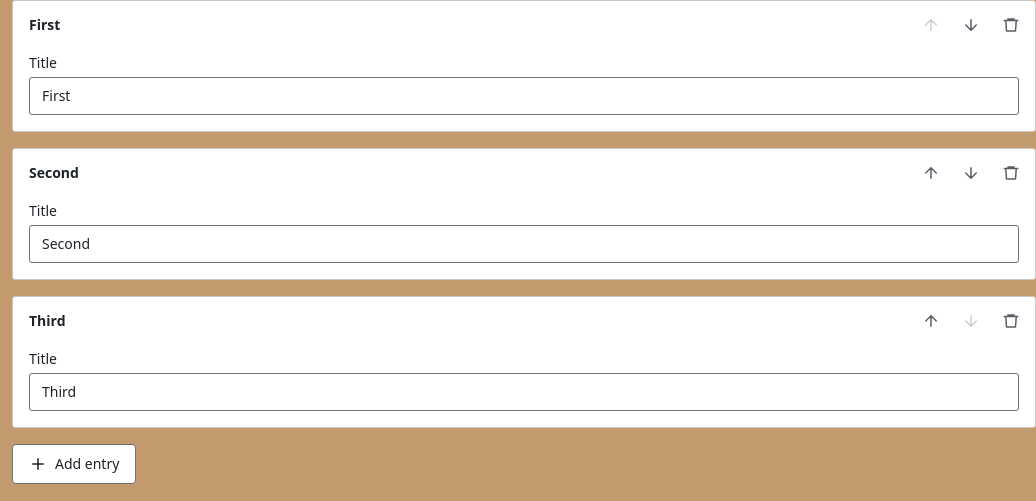
Scenario: entries › marks each entry for the reorder animation and keeps focus on the pressed move button
The width and height of the screenshot is (1036, 501).
Step 1. Click the button named "Move up: Third" → (931, 321), box x1=911 y1=301 x2=951 y2=341
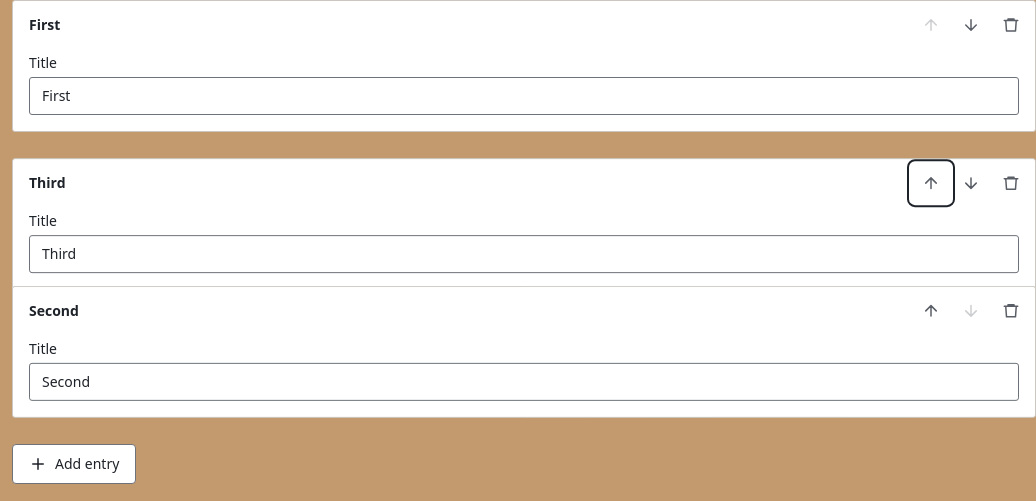
Step 2. Click the button named "Move down: First" → (971, 25), box x1=951 y1=5 x2=991 y2=45
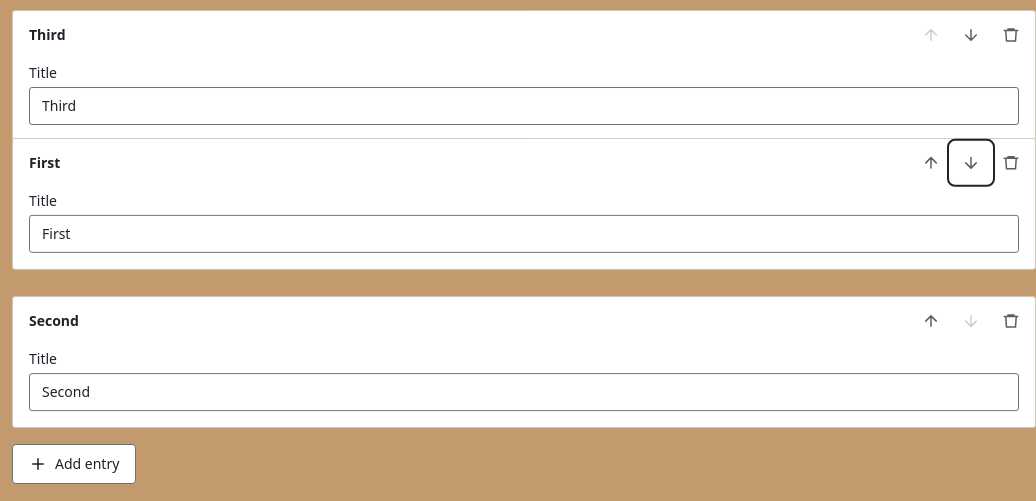
At the bottom, "Move down" is disabled, so focus goes to the same entry's "Move up".
Step 3. Click the button named "Move down: First" → (971, 172), box x1=951 y1=152 x2=991 y2=192
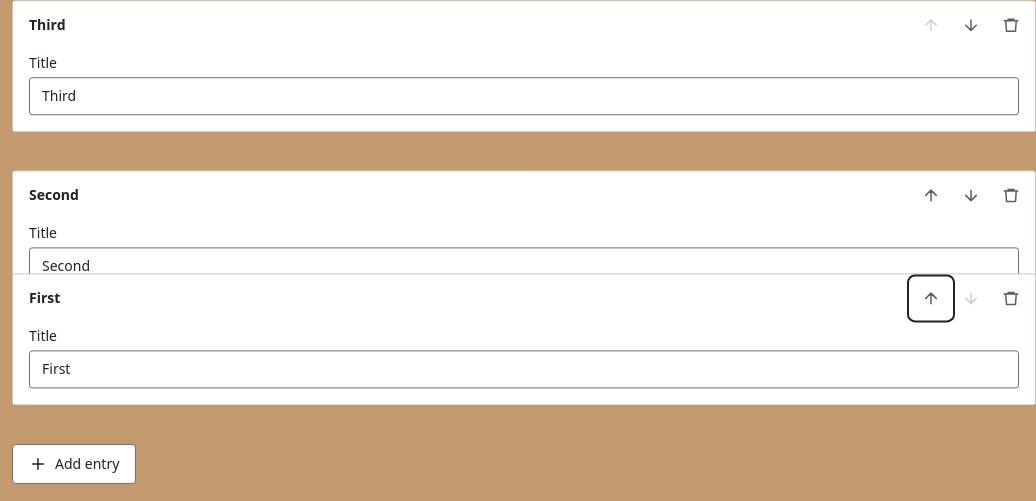
Now the button named "Move down: First" is disabled, box x1=951 y1=300 x2=991 y2=340
